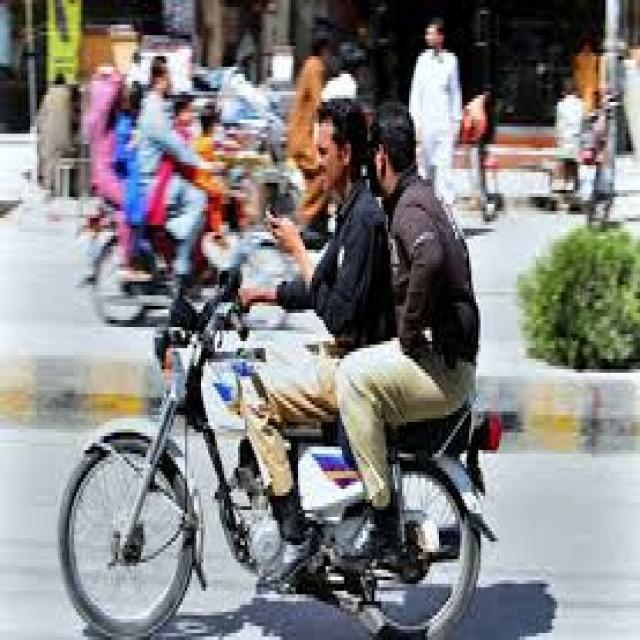USING_MOBILE: (256, 183, 311, 260)
